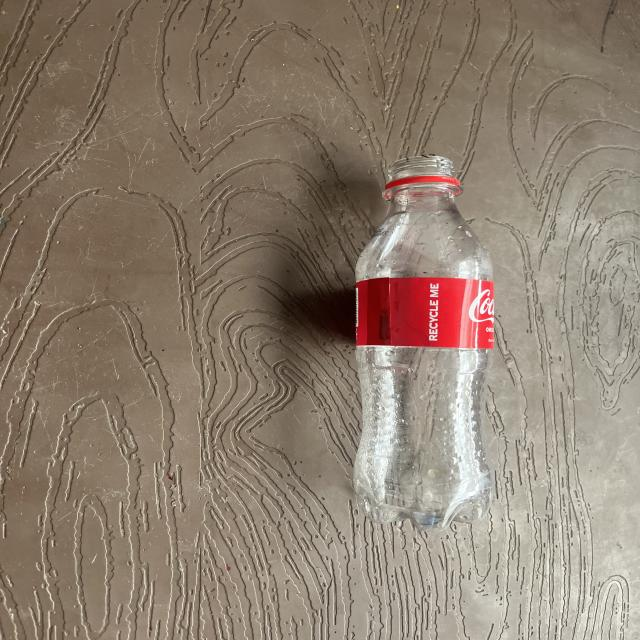REJECT: (339, 164, 616, 636)
